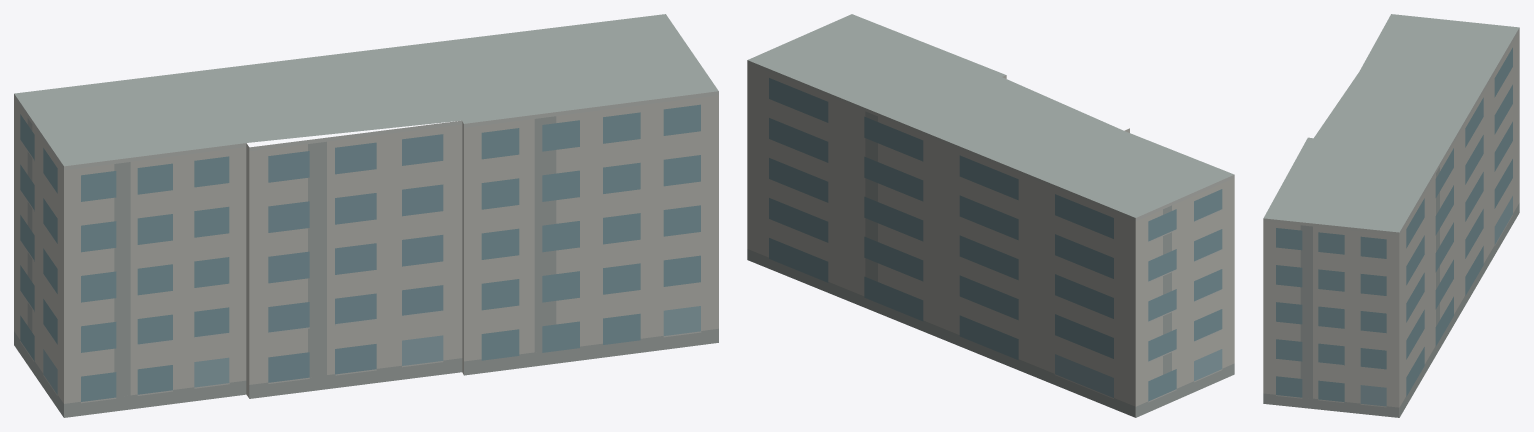
The model's file is survey-upis-32873130.glb.
3 renders of one model, left to right at view 1: azimuth 30°, elevation 25°; view 2: azimuth 150°, elevation 25°; view 3: azimuth 270°, elevation 25°, orthographic. The views are drawn at different scales.
Parts seen in each view (by area): view 1: survey-upis-32873130.tmp; view 2: survey-upis-32873130.tmp; view 3: survey-upis-32873130.tmp.
Part boxes in pixels (left/top/right/bottom): survey-upis-32873130.tmp: left=14, top=14, right=718, bottom=417; survey-upis-32873130.tmp: left=747, top=14, right=1234, bottom=417; survey-upis-32873130.tmp: left=1263, top=14, right=1519, bottom=417.
Size of the model in its own units: 37.66 by 14.9 by 18.67.
